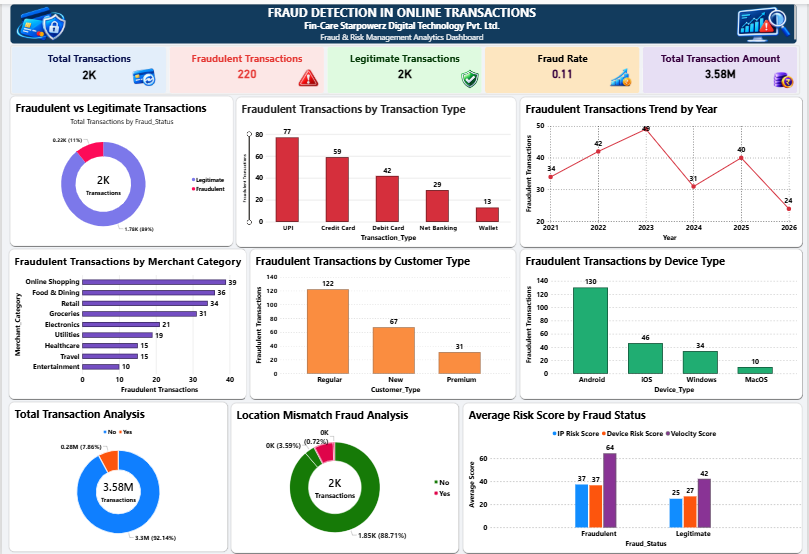

What the dashboard file says about the page in this screenshot:
{"tool":"powerbi","page":{"name":"Page 1","canvas":[2500,1708],"ordinal":0},"visuals":[{"type":"cardVisual","fields":{"Data":["Fraud_Detection.Total Transactions","Fraud_Detection.Fraudulent Transactions","Fraud_Detection.Legitimate Transactions","Fraud_Detection.Fraud Rate","Fraud_Detection.Total Transaction Amount"]},"box":[24.8,128,2454,155],"z":0},{"type":"textbox","box":[24.8,0,2444,124.2],"z":1000},{"type":"donutChart","title":"Fraudulent vs Legitimate Transactions","fields":{"Category":["Fraud_Detection.Fraud_Status"],"Y":["Fraud_Detection.Total Transactions"]},"box":[24.8,285.7,692.5,465.8],"z":2000},{"type":"clusteredColumnChart","title":"Fraudulent Transactions by Transaction Type","fields":{"Category":["Fraud_Detection.Transaction_Type"],"Y":["Fraud_Detection.Fraudulent Transactions"]},"box":[726.7,288.8,869.5,465.8],"z":3000},{"type":"lineChart","title":"Fraudulent Transactions Trend by Year","fields":{"Category":["Fraud_Detection.Year"],"Y":["Fraud_Detection.Fraudulent Transactions"]},"box":[1608.6,290,877,465.8],"z":4000},{"type":"clusteredBarChart","title":"Fraudulent Transactions by Merchant Category","fields":{"Y":["Fraud_Detection.Fraudulent Transactions"],"Category":["Fraud_Detection.Merchant_Category"]},"box":[21.7,762,737,465.8],"z":5000},{"type":"columnChart","title":"Fraudulent Transactions by Customer Type","fields":{"Y":["Fraud_Detection.Fraudulent Transactions"],"Category":["Fraud_Detection.Customer_Type"]},"box":[770.2,760.8,826.1,465.8],"z":6000},{"type":"columnChart","title":"Fraudulent Transactions by Device Type","fields":{"Y":["Fraud_Detection.Fraudulent Transactions"],"Category":["Fraud_Detection.Device_Type"]},"box":[1609,760,877,466],"z":7000},{"type":"donutChart","title":"Total Transaction Analysis","fields":{"Category":["Fraud_Detection.International_Transaction"],"Y":["Fraud_Detection.Total Transaction Amount"]},"box":[22,1236,679,465],"z":8000},{"type":"donutChart","title":"Location Mismatch Fraud Analysis","fields":{"Category":["Fraud_Detection.International_Transaction"],"Y":["Fraud_Detection.Total Transactions","Fraud_Detection.Location Mismatch Fraud"]},"box":[711.1,1239.1,707,465.8],"z":9000},{"type":"clusteredColumnChart","title":"Average Risk Score by Fraud Status","fields":{"Y":["Fraud_Detection.Average IP Risk Score","Fraud_Detection.Average Device Risk Score","Fraud_Detection.Average Velocity Score"],"Category":["Fraud_Detection.Fraud_Status"]},"box":[1431.6,1239,1052.7,465.8],"z":10000},{"type":"image","box":[24.8,0,192.5,127.3],"z":11000},{"type":"image","box":[2248.3,0,220.5,124.2],"z":12000},{"type":"image","box":[391.3,158.4,99.4,139.7],"z":13000},{"type":"image","box":[913,177,77.6,105.6],"z":14000},{"type":"image","box":[1419.2,183.2,68.3,99.4],"z":15000},{"type":"image","box":[1841.5,205,80.7,59],"z":16000},{"type":"image","box":[2385,183.2,83.8,105.6],"z":17000}]}

Visuals, with their boxes in screenshot pixels (x1, y1, x2, y2), scaled from the page's 2500x1708 canvas onto the 809x554 screenshot:
cardVisual - Fraud_Detection.Total Transactions x Fraud_Detection.Fraudulent Transactions: x1=8, y1=42, x2=802, y2=92
textbox: x1=8, y1=0, x2=799, y2=40
"Fraudulent vs Legitimate Transactions" donutChart: x1=8, y1=93, x2=232, y2=244
"Fraudulent Transactions by Transaction Type" clusteredColumnChart: x1=235, y1=94, x2=517, y2=245
"Fraudulent Transactions Trend by Year" lineChart: x1=521, y1=94, x2=804, y2=245
"Fraudulent Transactions by Merchant Category" clusteredBarChart: x1=7, y1=247, x2=246, y2=398
"Fraudulent Transactions by Customer Type" columnChart: x1=249, y1=247, x2=517, y2=398
"Fraudulent Transactions by Device Type" columnChart: x1=521, y1=247, x2=804, y2=398
"Total Transaction Analysis" donutChart: x1=7, y1=401, x2=227, y2=552
"Location Mismatch Fraud Analysis" donutChart: x1=230, y1=402, x2=459, y2=553
"Average Risk Score by Fraud Status" clusteredColumnChart: x1=463, y1=402, x2=804, y2=553
image: x1=8, y1=0, x2=70, y2=41
image: x1=728, y1=0, x2=799, y2=40
image: x1=127, y1=51, x2=159, y2=97
image: x1=295, y1=57, x2=321, y2=92
image: x1=459, y1=59, x2=481, y2=92
image: x1=596, y1=66, x2=622, y2=86
image: x1=772, y1=59, x2=799, y2=94
